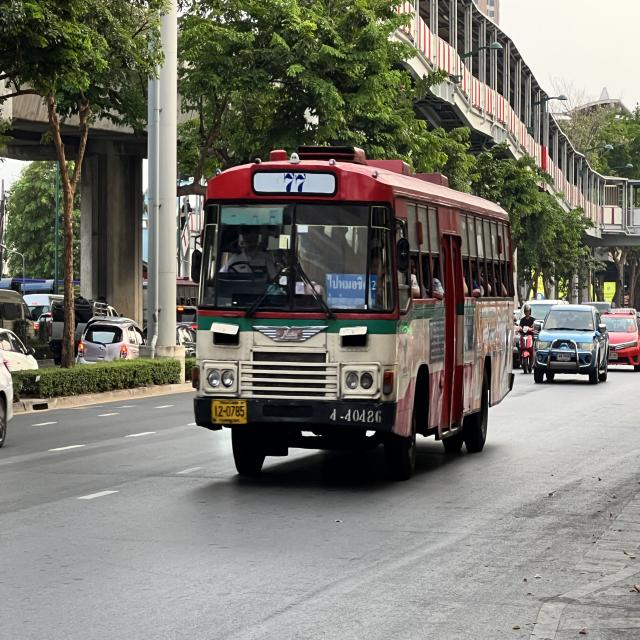BMTA-bus: (182, 132, 522, 487)
Bus-Line-Number: (275, 170, 312, 196)
Destination-Sign-Normal: (326, 272, 379, 310)
